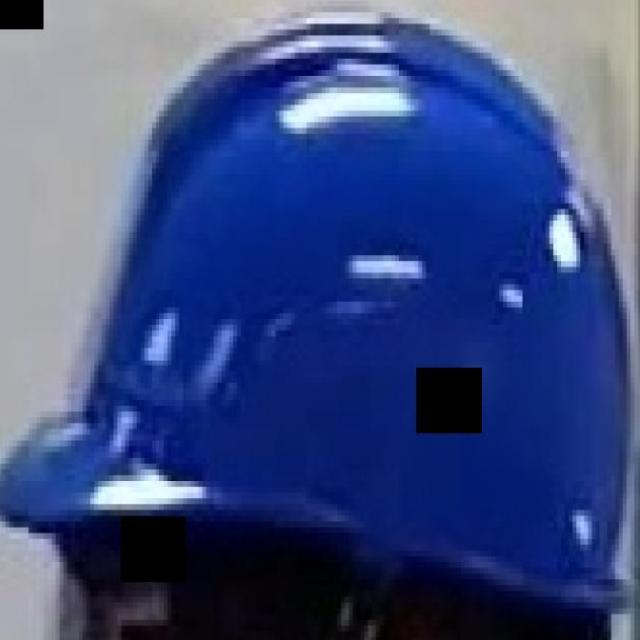helmet: (0, 7, 635, 626)
